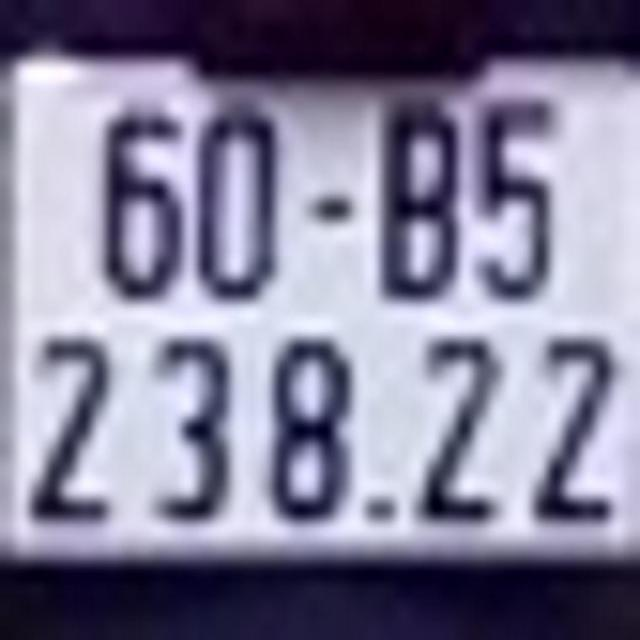0: (189, 106, 282, 308)
2: (514, 325, 619, 522), (17, 322, 119, 521), (412, 320, 503, 530)
3: (147, 320, 234, 523)
5: (471, 89, 560, 305)
6: (96, 106, 187, 300)
8: (263, 327, 356, 528)
B: (375, 95, 468, 305)
